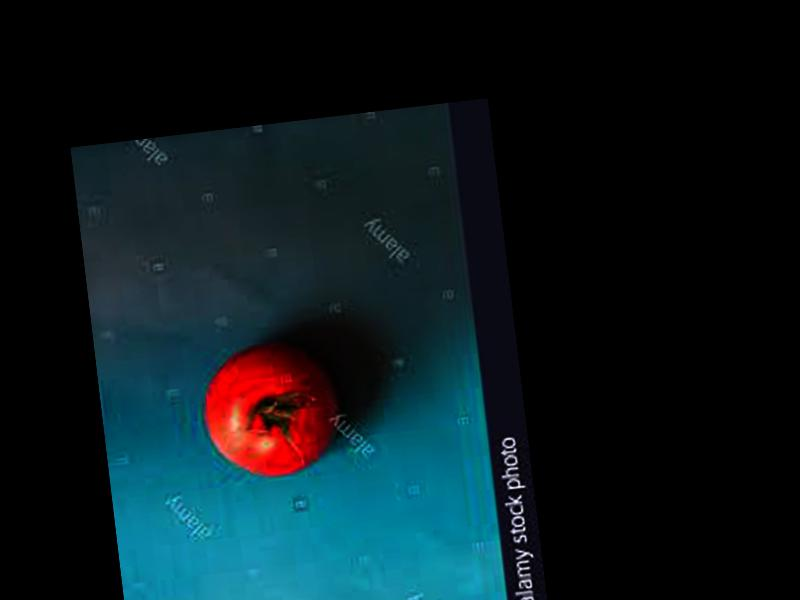Tomato: (196, 338, 346, 483)
